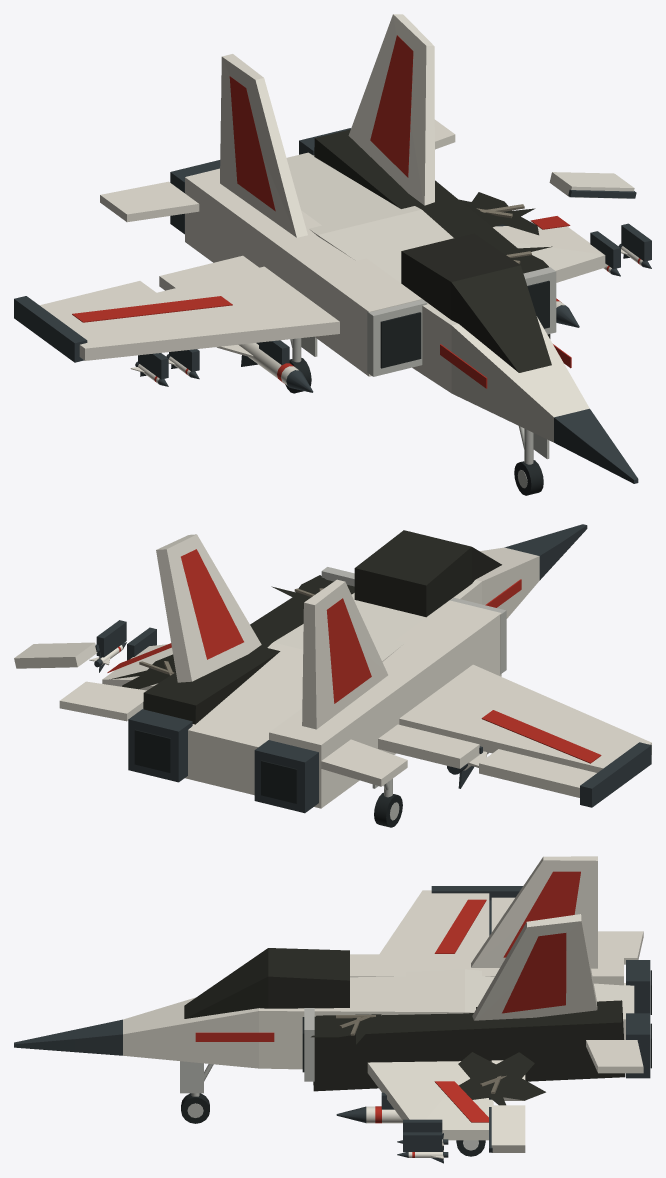
The picture shows the model from 3 angles, top to bottom: view 1: azimuth 30°, elevation 25°; view 2: azimuth 150°, elevation 25°; view 3: azimuth 270°, elevation 25°; orthographic projection. The views are drawn at different scales.
Parts seen in each view (by area): view 1: jet-a-damaged-fleet-armor, jet-a-damaged-fleet-damage-charred, jet-a-damaged-fleet-red, jet-a-damaged-fleet-machine, jet-a-damaged-fleet-rubber, jet-a-damaged-fleet-edge, elevator-left-fleet-armor, aileron-right-painted, aileron-left-painted, flap-left-painted, store-left-large-painted, gear-wheel-nose-0-0-painted (+1 smaller); view 2: jet-a-damaged-fleet-armor, jet-a-damaged-fleet-damage-charred, jet-a-damaged-fleet-machine, jet-a-damaged-fleet-red, aileron-left-painted, flap-left-painted, jet-a-damaged-fleet-rubber, elevator-left-fleet-armor, elevator-right-fleet-armor, aileron-right-painted, jet-a-damaged-fleet-edge, gear-wheel-left-0-0-painted (+1 smaller); view 3: jet-a-damaged-fleet-armor, jet-a-damaged-fleet-damage-charred, jet-a-damaged-fleet-red, jet-a-damaged-fleet-machine, aileron-right-painted, elevator-right-fleet-armor, elevator-left-fleet-armor, landing-gear-nose-fleet-edge, store-right-large-painted, jet-a-damaged-fleet-edge, gear-wheel-nose-0-0-painted, aileron-left-painted (+1 smaller).
Part boxes in pixels (x1,y1,x2,y2): jet-a-damaged-fleet-armor: [56, 14, 606, 442]; jet-a-damaged-fleet-damage-charred: [314, 129, 552, 372]; jet-a-damaged-fleet-red: [72, 35, 571, 388]; jet-a-damaged-fleet-machine: [14, 128, 651, 483]; jet-a-damaged-fleet-rubber: [380, 280, 549, 368]; jet-a-damaged-fleet-edge: [367, 267, 556, 376]; elevator-left-fleet-armor: [100, 181, 199, 222]; aileron-right-painted: [549, 172, 636, 198]; aileron-left-painted: [40, 281, 156, 317]; flap-left-painted: [159, 255, 258, 290]; store-left-large-painted: [216, 342, 313, 392]; gear-wheel-nose-0-0-painted: [514, 460, 543, 495]; jet-a-damaged-fleet-armor: [102, 534, 651, 808]; jet-a-damaged-fleet-damage-charred: [109, 530, 501, 724]; jet-a-damaged-fleet-machine: [96, 524, 651, 813]; jet-a-damaged-fleet-red: [107, 549, 601, 763]; aileron-left-painted: [479, 749, 596, 797]; flap-left-painted: [378, 724, 482, 768]; jet-a-damaged-fleet-rubber: [134, 729, 297, 803]; elevator-left-fleet-armor: [321, 739, 407, 786]; elevator-right-fleet-armor: [59, 681, 146, 721]; aileron-right-painted: [14, 642, 99, 668]; jet-a-damaged-fleet-edge: [321, 567, 506, 674]; gear-wheel-left-0-0-painted: [374, 792, 402, 827]; jet-a-damaged-fleet-armor: [123, 856, 634, 1140]; jet-a-damaged-fleet-damage-charred: [184, 948, 625, 1105]; jet-a-damaged-fleet-red: [195, 871, 580, 1122]; jet-a-damaged-fleet-machine: [14, 886, 650, 1151]; aileron-right-painted: [489, 1105, 525, 1152]; elevator-right-fleet-armor: [586, 1040, 643, 1073]; elevator-left-fleet-armor: [598, 931, 643, 964]; landing-gear-nose-fleet-edge: [180, 1061, 213, 1096]; store-right-large-painted: [336, 1106, 402, 1123]; jet-a-damaged-fleet-edge: [304, 1008, 314, 1081]; gear-wheel-nose-0-0-painted: [181, 1093, 209, 1123]; aileron-left-painted: [489, 897, 514, 935].
Bounding box in the file's own units: 56.65 × 26.34 × 62.11.
